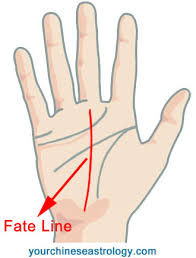palm: (44, 105, 150, 210)
